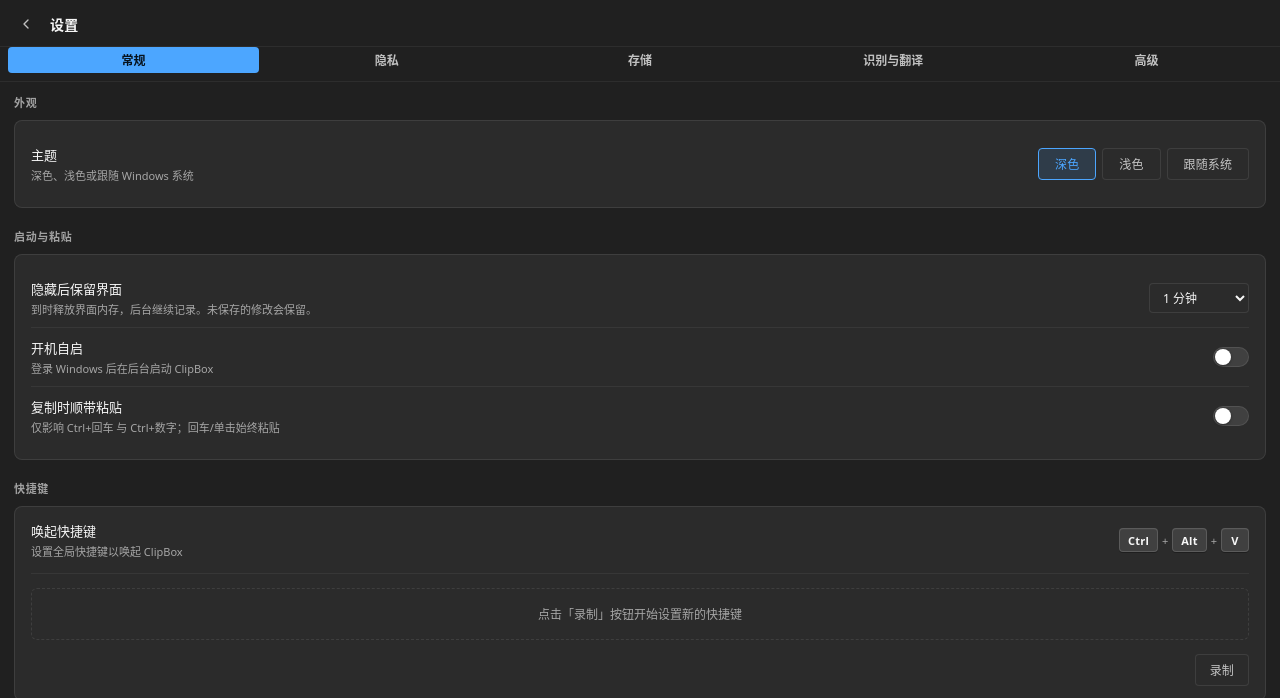
settings drafts › resets active tab when openSignal increments even with unchanged initialTab
Later steps or results of the test are not shown.
Click the tab "隐私" at [387, 60], box 261,47 -> 512,73
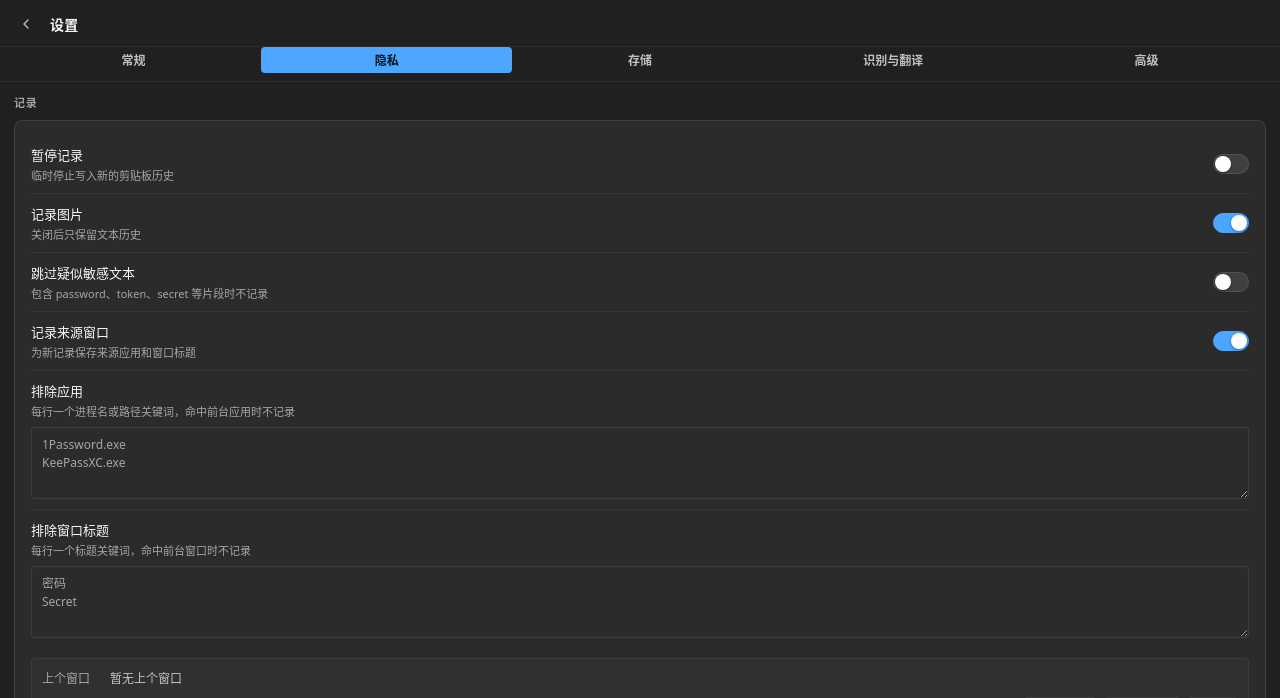
Expected: the tab "隐私" is selected, 261,47 -> 512,73
